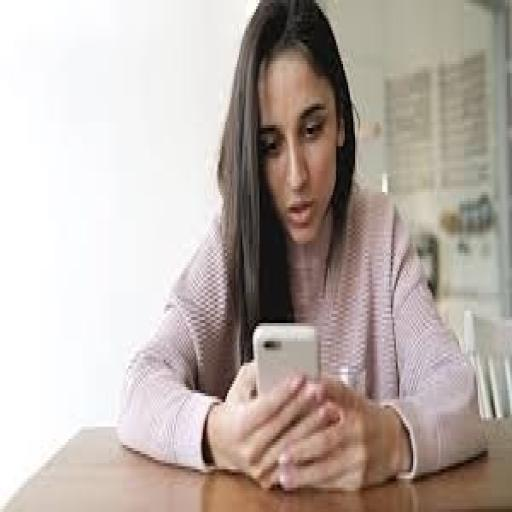texting: (116, 0, 486, 494)
